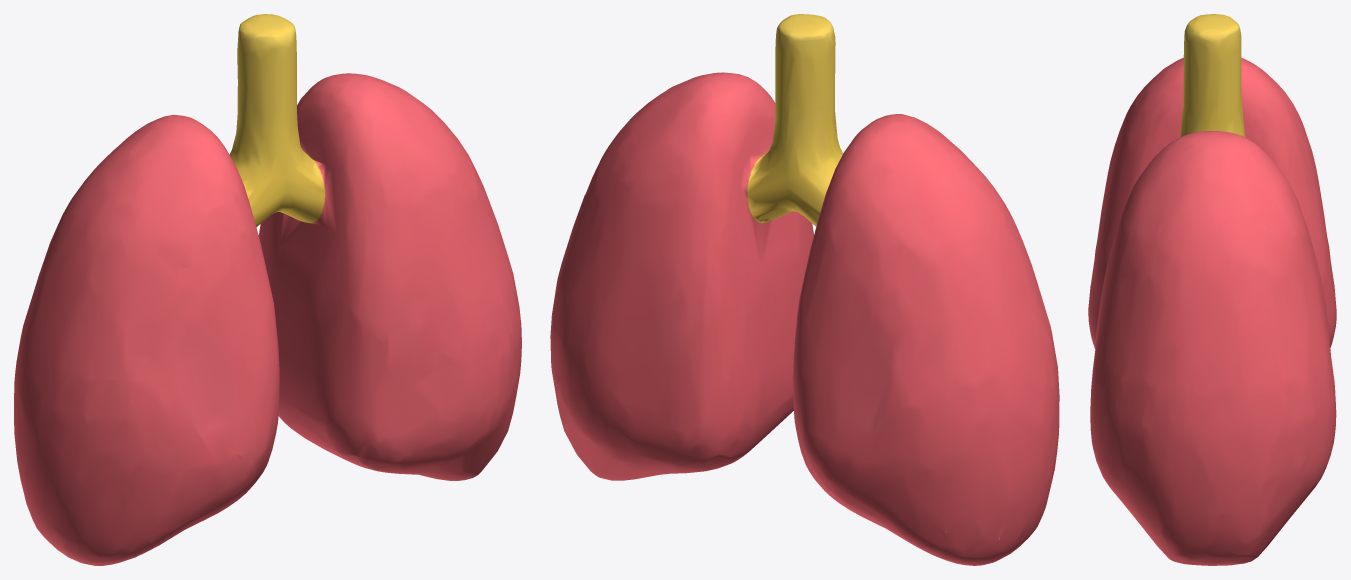
The model's file is pulmoes.glb.
3 renders of one model, left to right at view 1: azimuth 30°, elevation 25°; view 2: azimuth 150°, elevation 25°; view 3: azimuth 270°, elevation 25°, orthographic. The views are drawn at different scales.
Visible parts, largest first — view 1: corpo; view 2: corpo; view 3: corpo.
Part boxes in pixels (bbox=[...]): corpo: bbox=[14, 14, 521, 565]; corpo: bbox=[550, 14, 1059, 565]; corpo: bbox=[1088, 14, 1336, 565].
Size of the model in its own units: 0.9798 by 0.9713 by 0.4743.
Materials: 1 (1 with a texture image).
